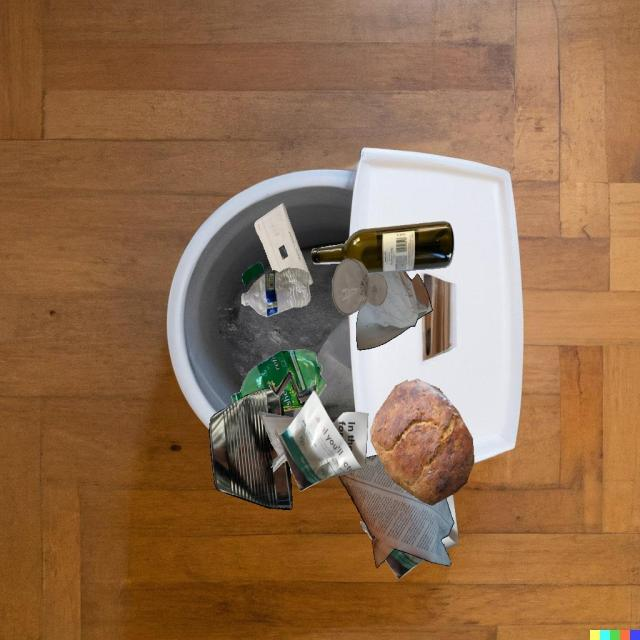biowaste: (370, 379, 474, 506)
cardboard: (267, 371, 317, 402)
glass: (311, 221, 454, 274), (332, 258, 387, 315)
metal: (209, 388, 292, 510)
paper: (339, 455, 454, 568), (274, 391, 368, 491), (356, 271, 433, 350), (254, 203, 313, 285), (370, 520, 453, 554), (259, 411, 296, 472), (385, 550, 426, 580)
plastic: (231, 350, 326, 403), (241, 268, 311, 317), (242, 262, 265, 286)
